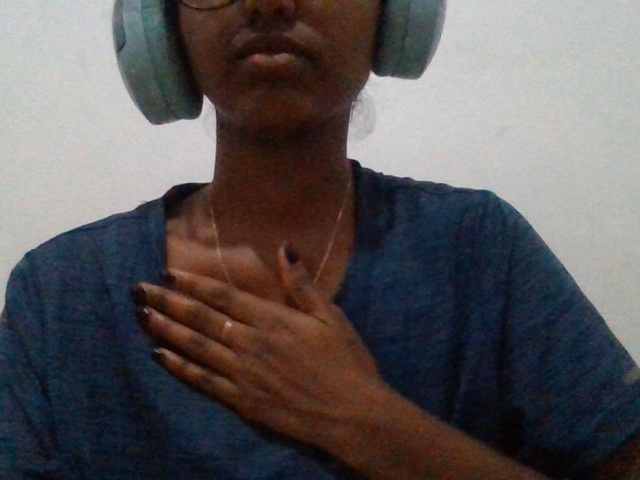Please: (100, 232, 436, 480)
